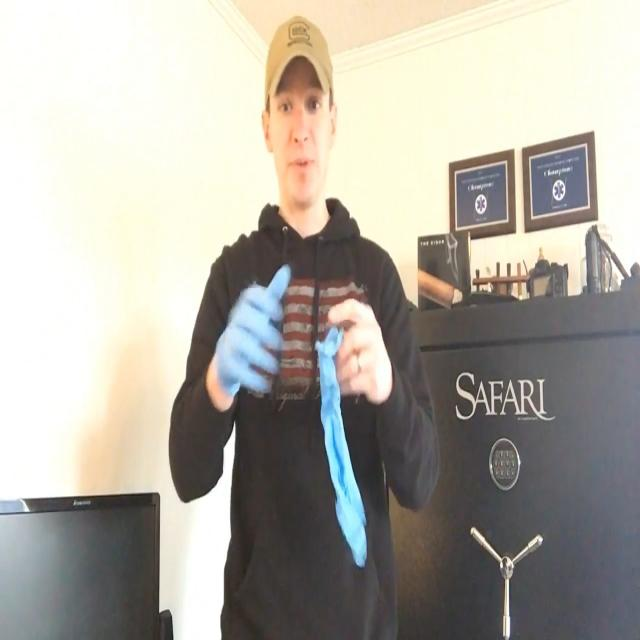Gloves: (203, 244, 302, 423)
